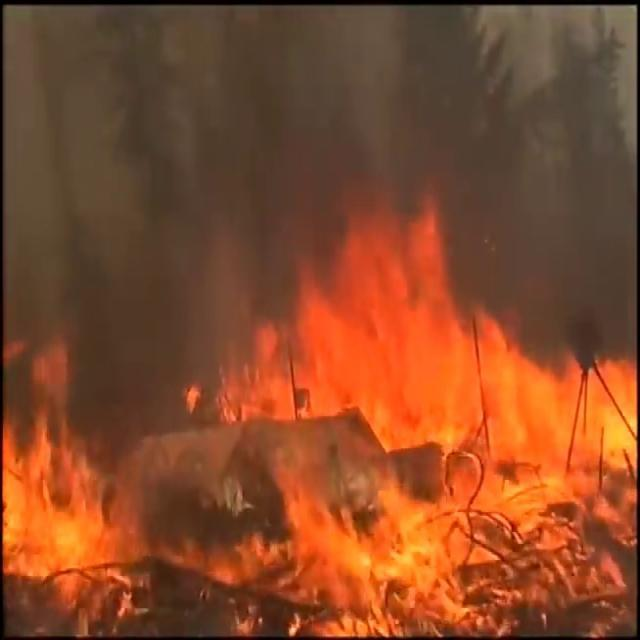Fire: (3, 192, 638, 637)
